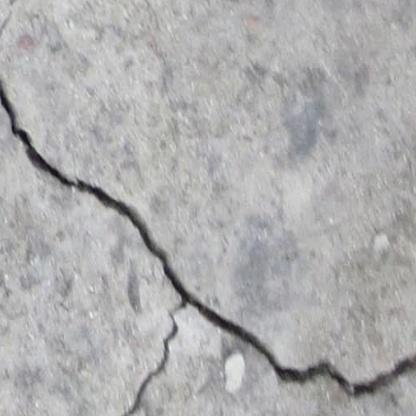Cracks: (0, 46, 416, 416), (0, 14, 15, 43), (7, 0, 35, 9)
